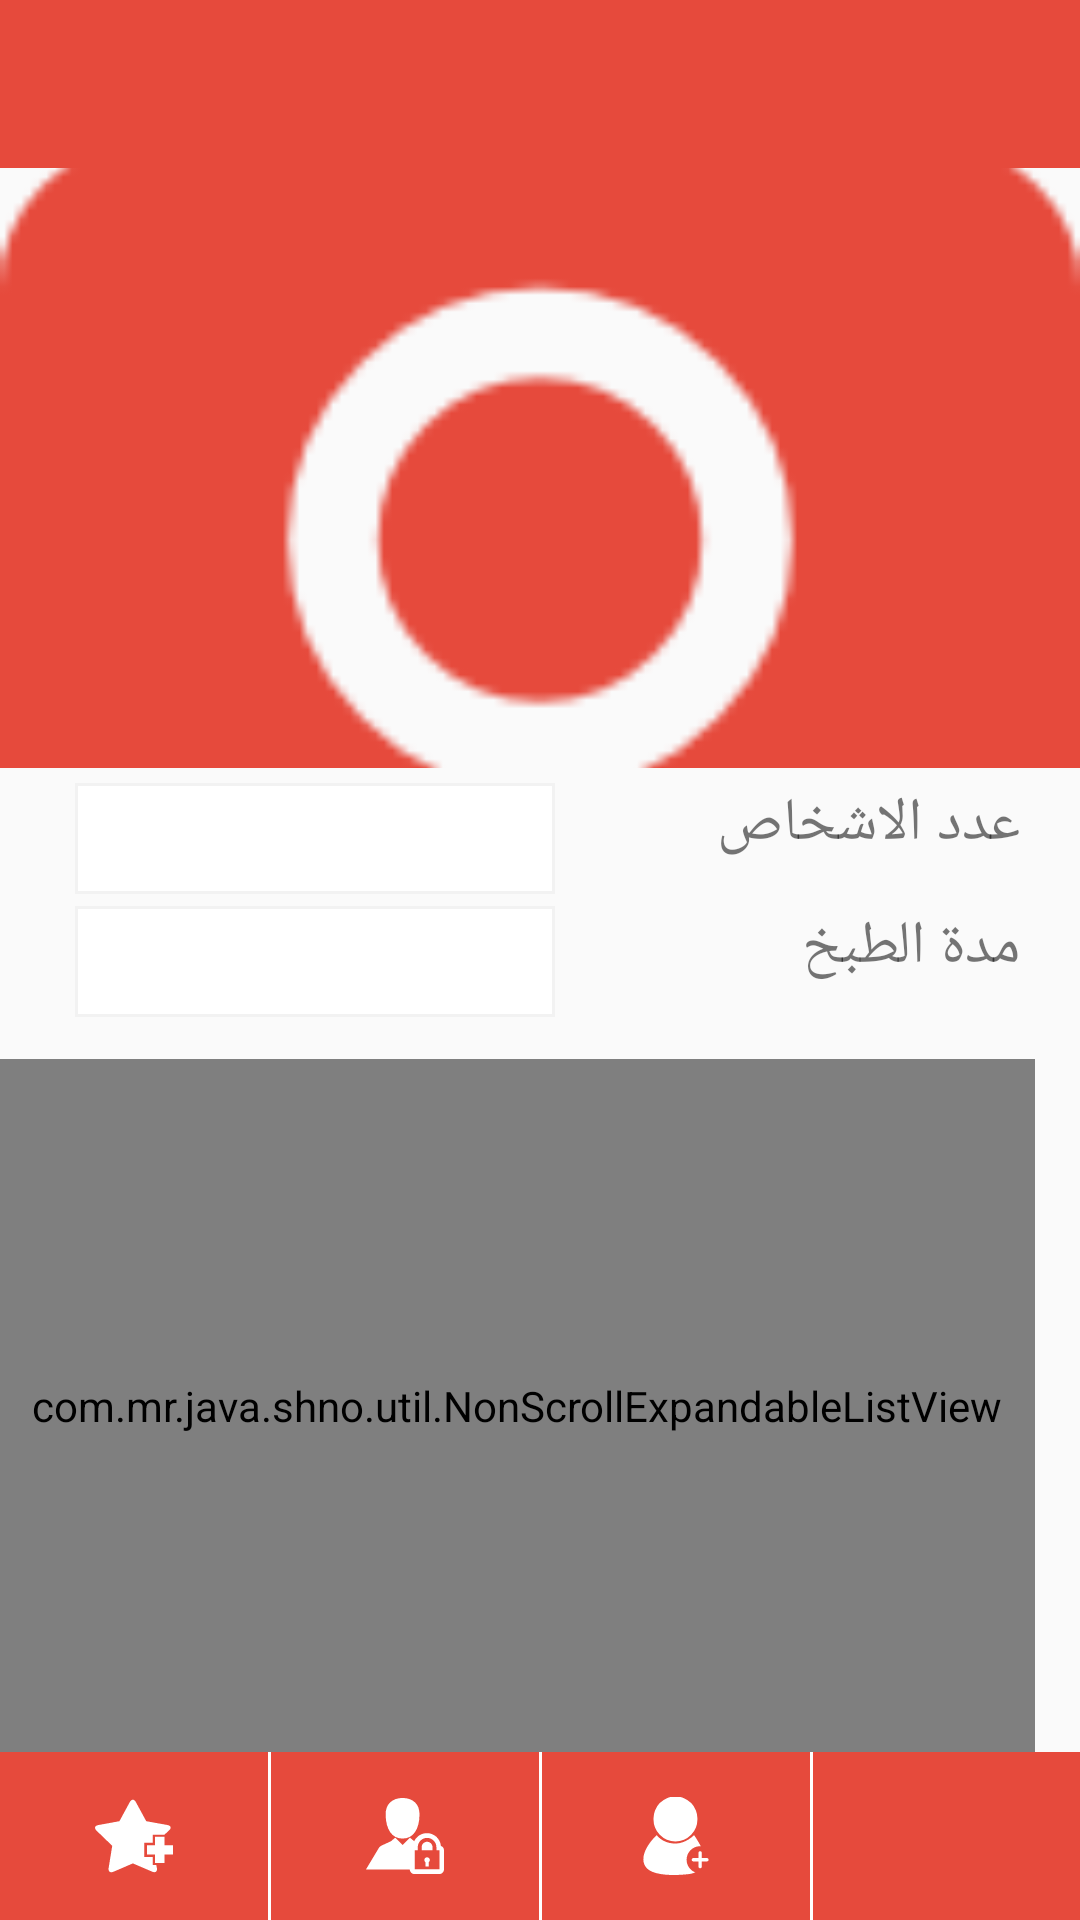

Screen size 1080x1920. Icon name, then its box in pixels as bbox=[x1, y1, x2, y2]:
add contact: bbox=[643, 1797, 709, 1875]
add star interface symbol: bbox=[0, 1752, 268, 1920]
lock user symbol: bbox=[366, 1798, 444, 1874]
